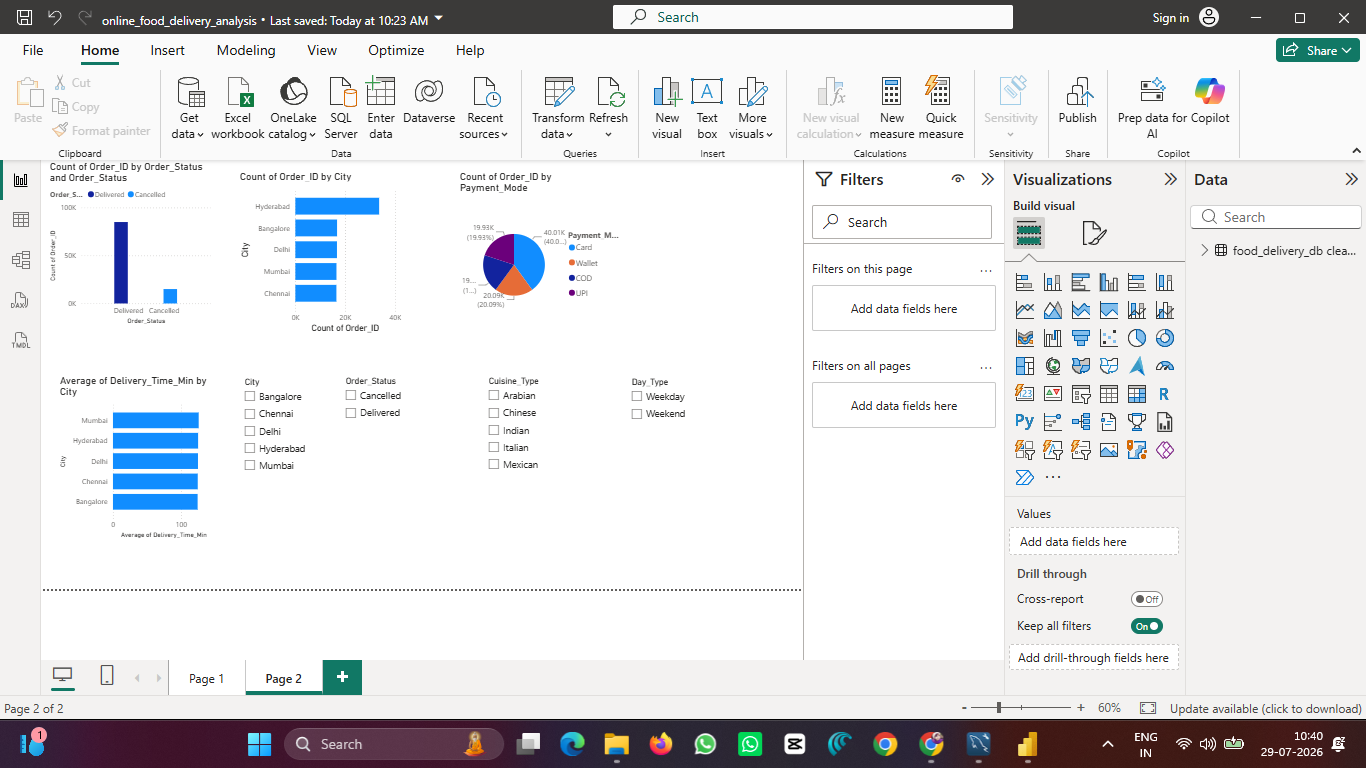

The dashboard page shown, as its layout file describes it:
{"tool":"powerbi","page":{"name":"Page 2","canvas":[1280,720],"ordinal":1},"visuals":[{"type":"clusteredColumnChart","fields":{"Category":["food_delivery_db cleaned_food_delivery_data.Order_Status"],"Series":["food_delivery_db cleaned_food_delivery_data.Order_Status"],"Y":["CountNonNull(food_delivery_db cleaned_food_delivery_data.Order_ID)"]},"box":[10,0,280,280],"z":0},{"type":"clusteredBarChart","fields":{"Category":["food_delivery_db cleaned_food_delivery_data.City"],"Y":["CountNonNull(food_delivery_db cleaned_food_delivery_data.Order_ID)"]},"box":[329.2,16.8,280.5,278.8],"z":1},{"type":"pieChart","fields":{"Category":["food_delivery_db cleaned_food_delivery_data.Payment_Mode"],"Y":["CountNonNull(food_delivery_db cleaned_food_delivery_data.Order_ID)"]},"box":[698.8,16.8,280.5,280.5],"z":2},{"type":"clusteredBarChart","fields":{"Category":["food_delivery_db cleaned_food_delivery_data.City"],"Y":["Avg(food_delivery_db cleaned_food_delivery_data.Delivery_Time_Min)"]},"box":[26.9,359.5,280.5,280.5],"z":3},{"type":"slicer","fields":{"Values":["food_delivery_db cleaned_food_delivery_data.City"]},"box":[329,359,281,281],"z":4},{"type":"slicer","fields":{"Values":["food_delivery_db cleaned_food_delivery_data.Order_Status"]},"box":[498.9,359.5,280.5,280.5],"z":5},{"type":"slicer","fields":{"Values":["food_delivery_db cleaned_food_delivery_data.Cuisine_Type"]},"box":[678.6,359.5,199.9,280.5],"z":6},{"type":"slicer","fields":{"Values":["food_delivery_db cleaned_food_delivery_data.Day_Type"]},"box":[878.5,359.5,199.9,280.5],"z":7},{"type":"textbox","box":[1039,17,241,281],"z":8}]}

Visuals, with their boxes on the page's 1280x720 design canvas (x1, y1, x2, y2). These are canvas units, not pixel positions in the 1366x768 screenshot, which may show the page scaled, cropped or inside an application window:
clusteredColumnChart - food_delivery_db cleaned_food_delivery_data.Order_Status x food_delivery_db cleaned_food_delivery_data.Order_Status: x1=10 y1=0 x2=290 y2=280
clusteredBarChart - food_delivery_db cleaned_food_delivery_data.City x CountNonNull(food_delivery_db cleaned_food_delivery_data.Order_ID): x1=329 y1=17 x2=610 y2=296
pieChart - food_delivery_db cleaned_food_delivery_data.Payment_Mode x CountNonNull(food_delivery_db cleaned_food_delivery_data.Order_ID): x1=699 y1=17 x2=979 y2=297
clusteredBarChart - food_delivery_db cleaned_food_delivery_data.City x Avg(food_delivery_db cleaned_food_delivery_data.Delivery_Time_Min): x1=27 y1=360 x2=307 y2=640
slicer - food_delivery_db cleaned_food_delivery_data.City: x1=329 y1=359 x2=610 y2=640
slicer - food_delivery_db cleaned_food_delivery_data.Order_Status: x1=499 y1=360 x2=779 y2=640
slicer - food_delivery_db cleaned_food_delivery_data.Cuisine_Type: x1=679 y1=360 x2=878 y2=640
slicer - food_delivery_db cleaned_food_delivery_data.Day_Type: x1=878 y1=360 x2=1078 y2=640
textbox: x1=1039 y1=17 x2=1280 y2=298
